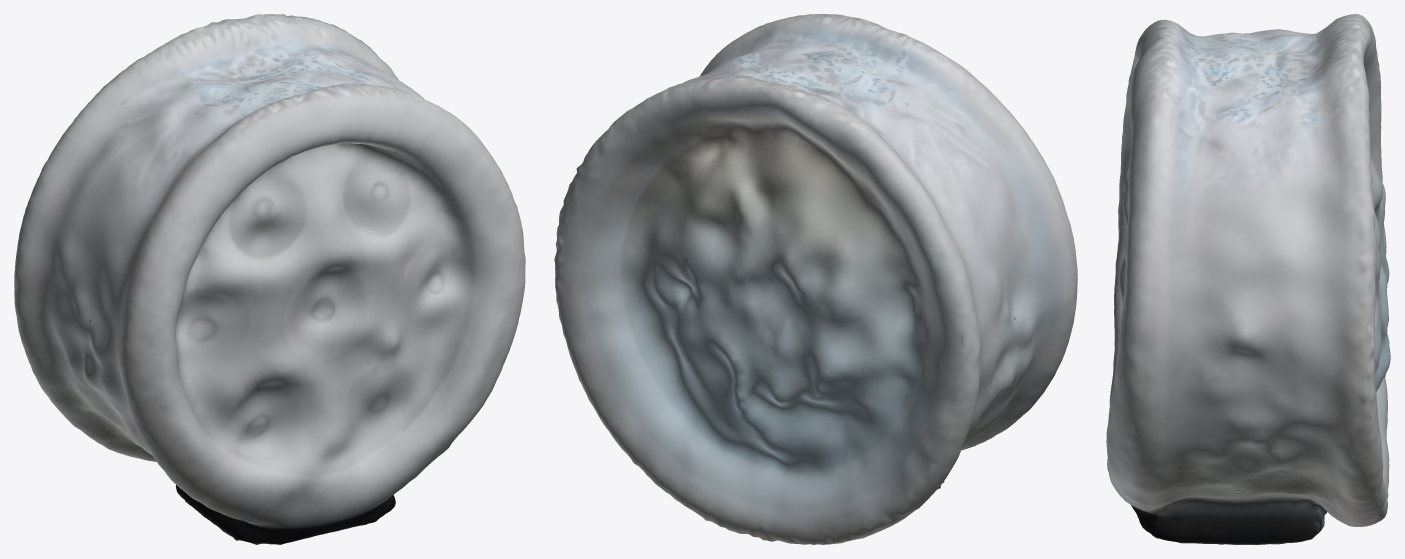
The picture shows the model from 3 angles, left to right: view 1: azimuth 30°, elevation 25°; view 2: azimuth 150°, elevation 25°; view 3: azimuth 270°, elevation 25°; orthographic projection. The views are drawn at different scales.
Bounding box in the file's own units: 1.14 × 1.2 × 0.6409.
Materials: 1 (1 with a texture image).
